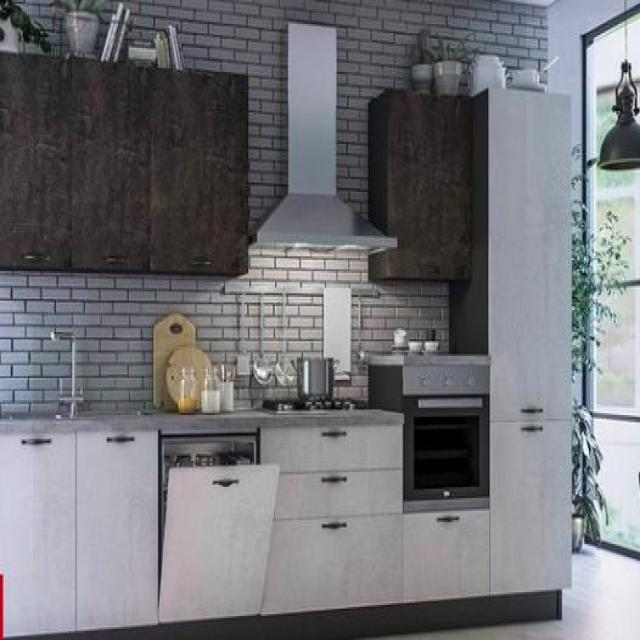dishwasher: (157, 424, 276, 620)
